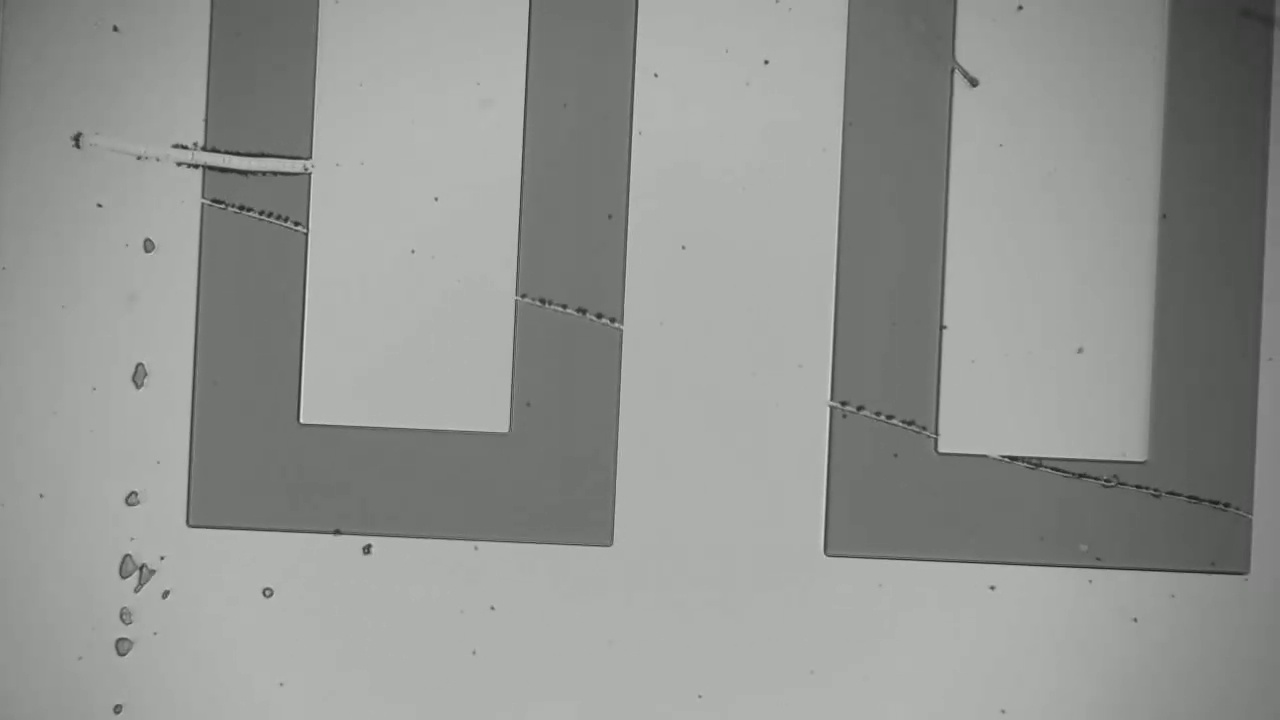Short_circuit: (176, 133, 340, 195)
scratch: (1021, 469, 1242, 513), (839, 395, 926, 434), (207, 194, 302, 229), (524, 290, 618, 323)
